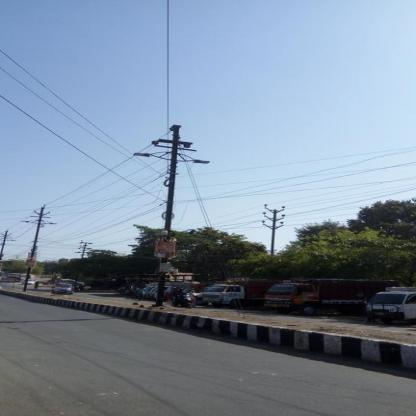Electrical Pole: (117, 117, 219, 305)
